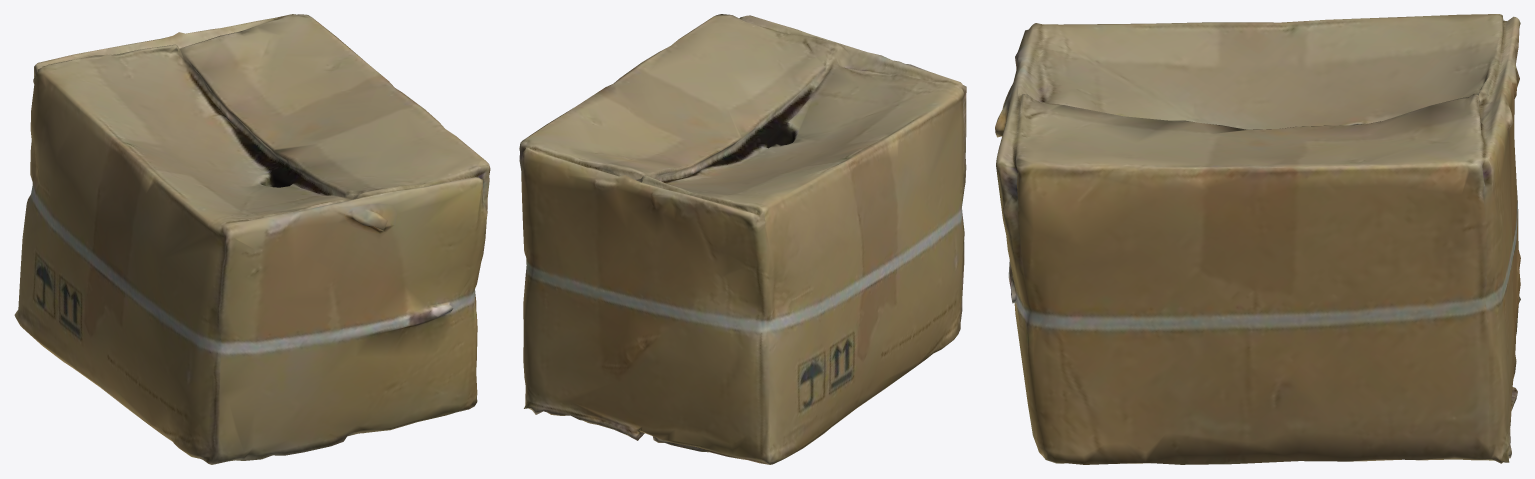
File: cardboard_box_01.glb
3 renders of one model, left to right at view 1: azimuth 30°, elevation 25°; view 2: azimuth 150°, elevation 25°; view 3: azimuth 270°, elevation 25°, orthographic. The views are drawn at different scales.
Visible parts, largest first — view 1: cardboard_box_01; view 2: cardboard_box_01; view 3: cardboard_box_01.
Boxes of the visible parts, x1,y1,x2,y2 form: cardboard_box_01: [14, 14, 490, 464]; cardboard_box_01: [519, 14, 966, 464]; cardboard_box_01: [995, 14, 1520, 464].
Size of the model in its own units: 0.3869 by 0.3418 by 0.5159.
Materials: 1 (1 with a texture image).
